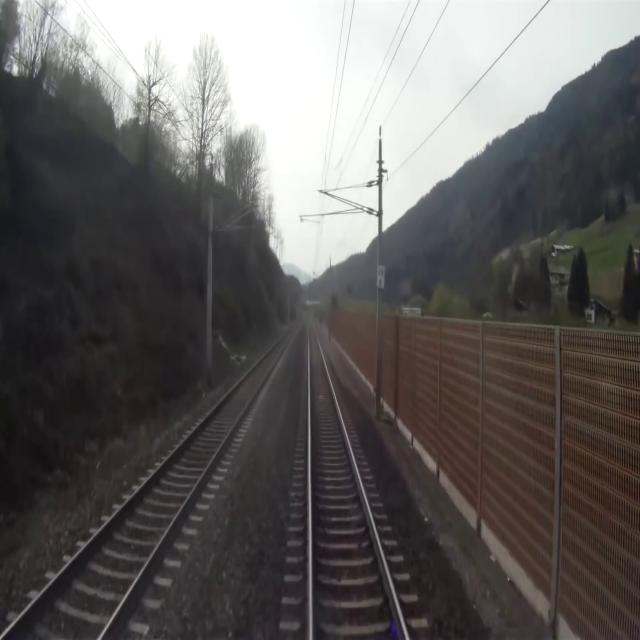rail-track: (2, 328, 295, 639), (309, 318, 404, 639)
